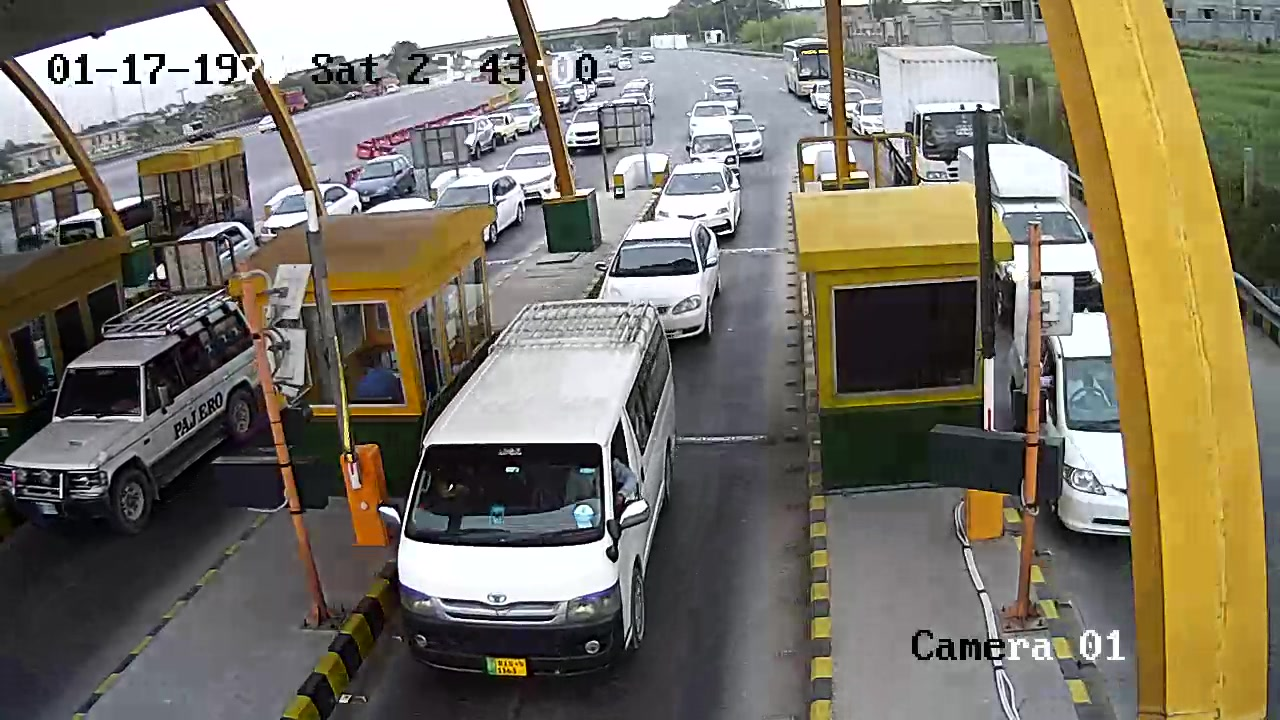F2: (388, 302, 683, 691)
